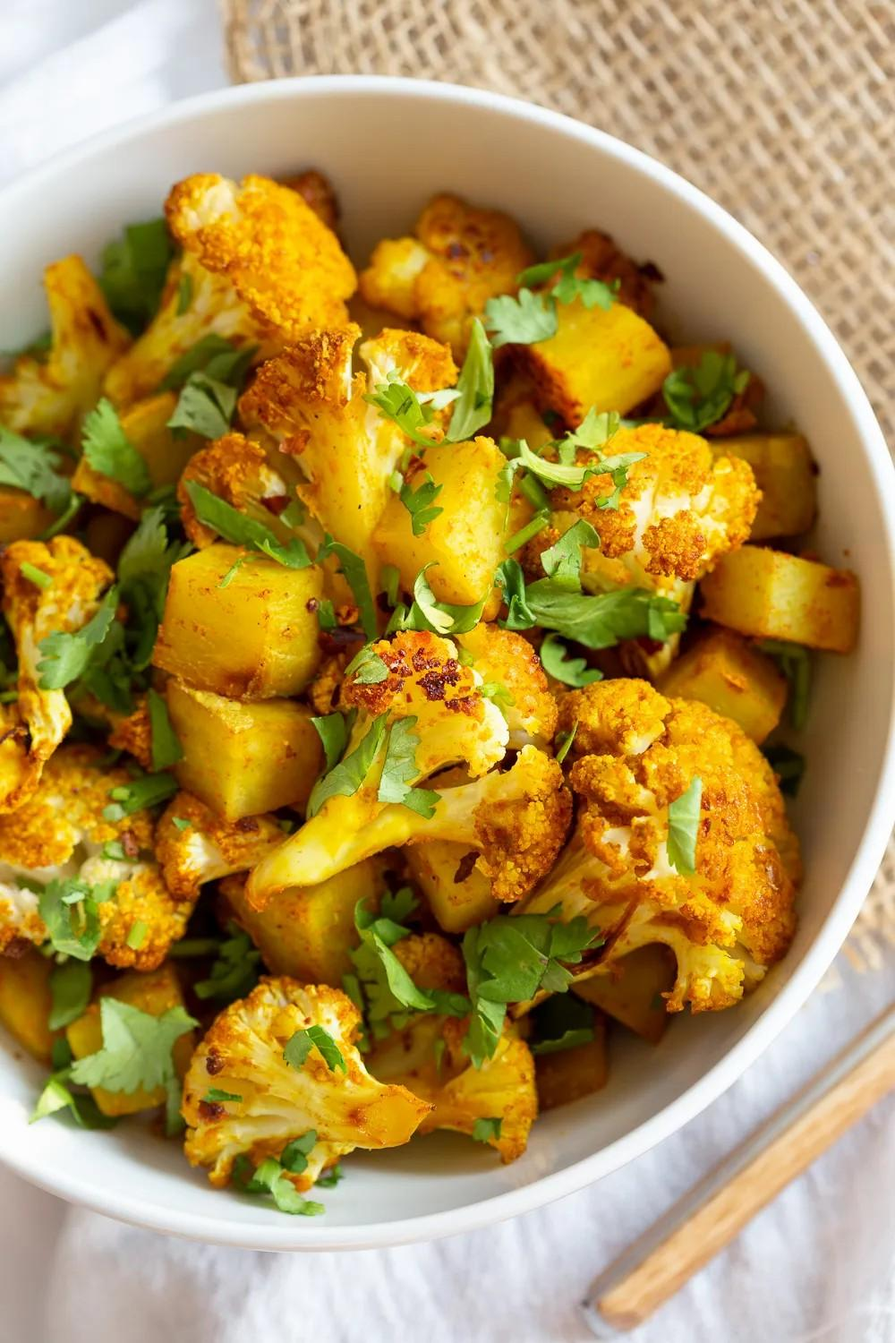AlooGobi: (4, 168, 862, 1193)
